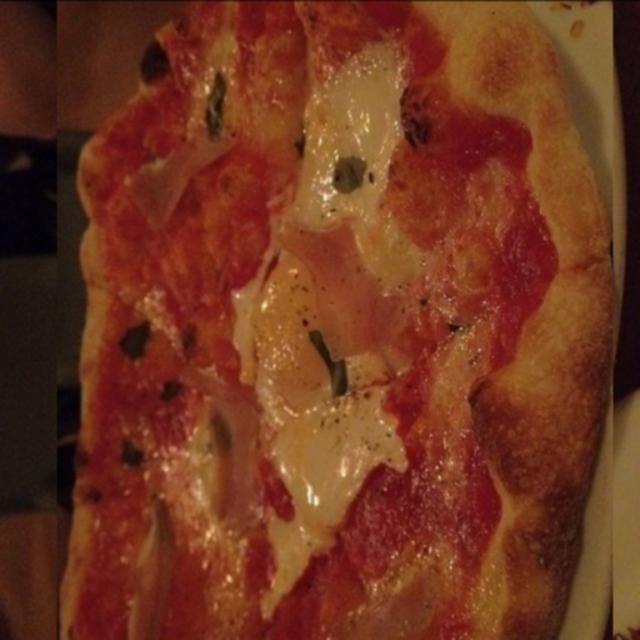pizza: (57, 0, 613, 640)
